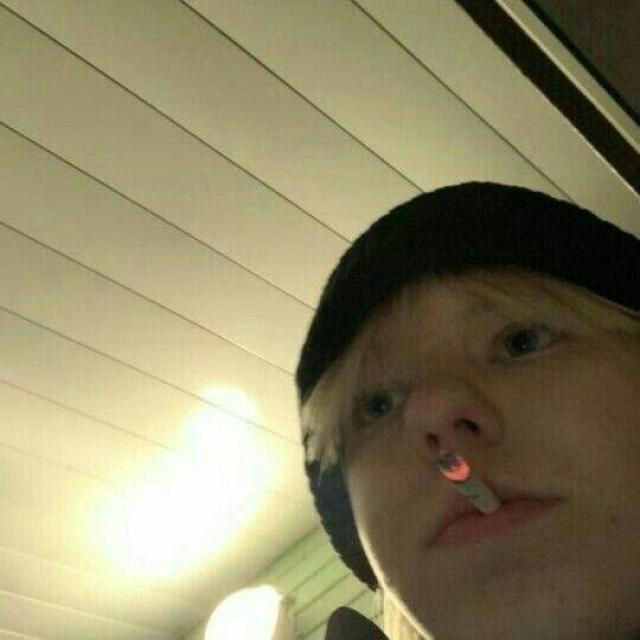cigarette: (419, 430, 522, 542)
